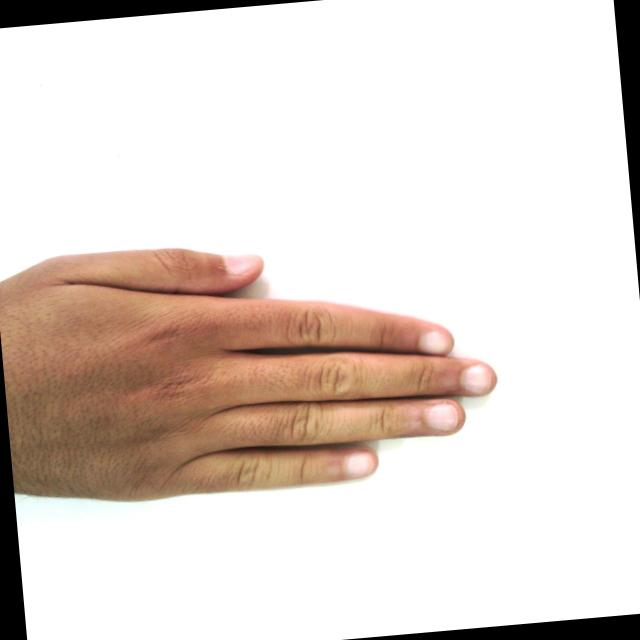Nail: (461, 362, 495, 394), (425, 402, 459, 430), (343, 449, 376, 477), (221, 253, 261, 273), (419, 329, 452, 353)
